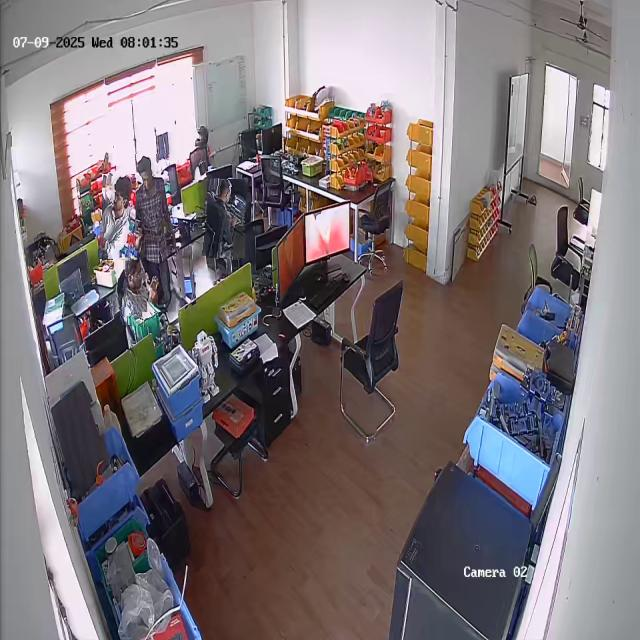person: (136, 154, 176, 312), (205, 178, 247, 259), (100, 173, 138, 261), (116, 250, 157, 327)
